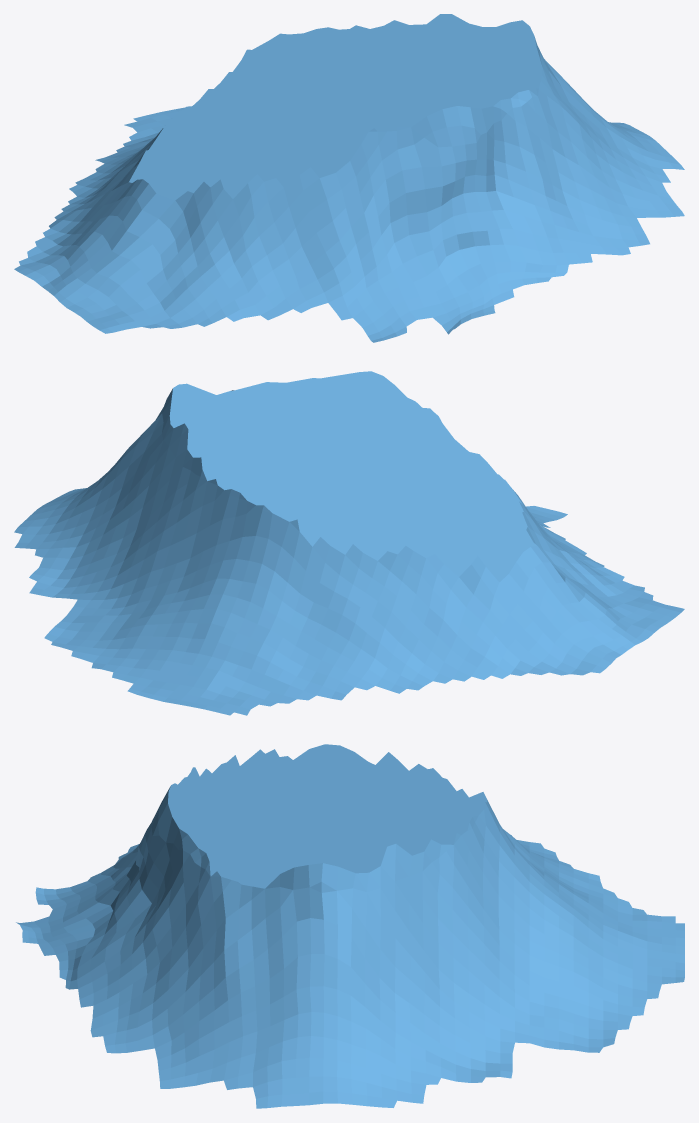
File: Ice Mountain 2.fbx
3 views of the same model, one above another, from view 1: azimuth 30°, elevation 25°; view 2: azimuth 150°, elevation 25°; view 3: azimuth 270°, elevation 25° (orthographic). The views are drawn at different scales.
Parts seen in each view (by area): view 1: Landscape.005; view 2: Landscape.005; view 3: Landscape.005.
Part boxes in pixels (x1,y1,x2,y2): Landscape.005: (14,14,684,342); Landscape.005: (14,371,684,715); Landscape.005: (16,744,684,1108).
Size of the model in its own units: 2077 by 550 by 1801.
